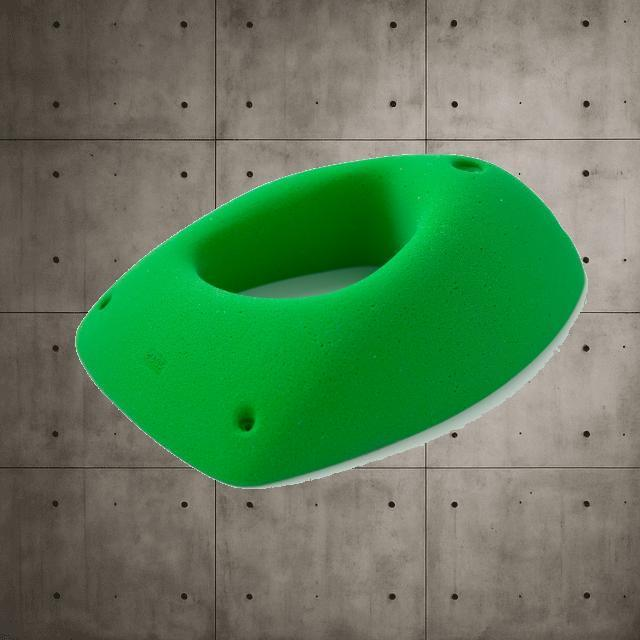Pocket: (75, 152, 590, 490)
